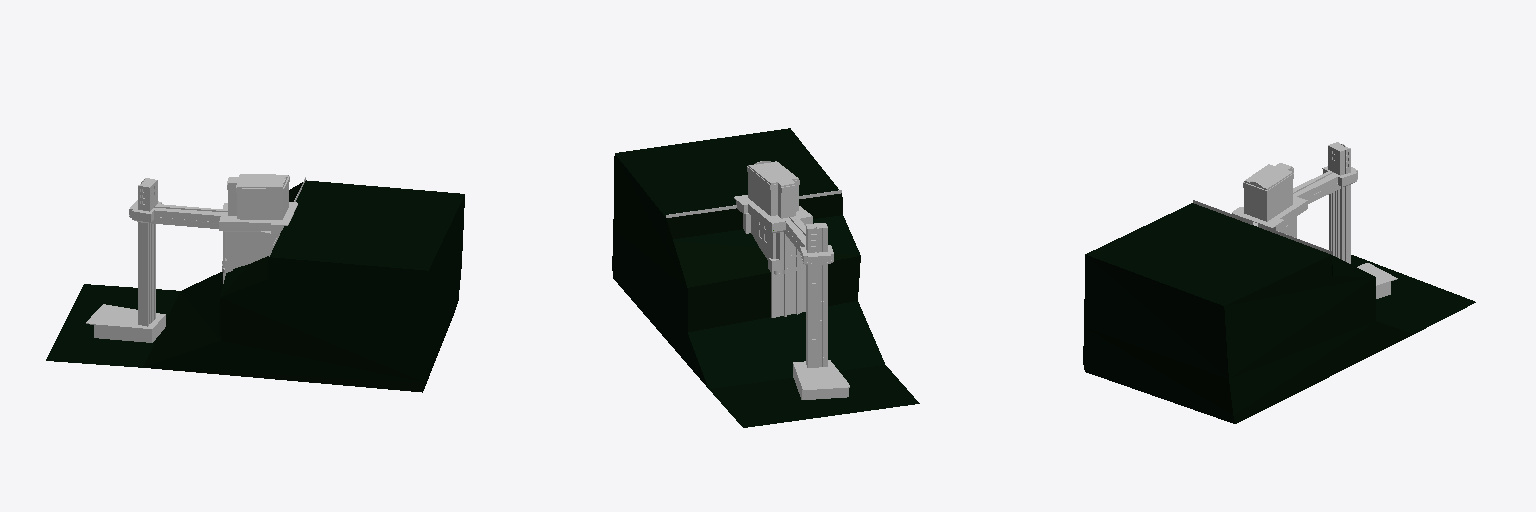
3 views of the same model, side by side, from view 1: azimuth 30°, elevation 25°; view 2: azimuth 150°, elevation 25°; view 3: azimuth 270°, elevation 25° (orthographic).
Parts seen in each view (by area): view 1: Morro_Cube.010, Torre_A_Cube.007, Torre_A_Predio_Cube, Base_Cube.005, Adorno_Colunas_Cube.012, Corredor_Cube.006, Torre_B_Elevador_Cube.002; view 2: Morro_Cube.010, Torre_A_Cube.007, Torre_A_Predio_Cube, Base_Cube.005, Torre_B_Elevador_Cube.002, Adorno_Colunas_Cube.012; view 3: Morro_Cube.010, Torre_A_Predio_Cube, Adorno_Colunas_Cube.012, Torre_A_Cube.007, Corredor_Cube.006, Torre_B_Elevador_Cube.002, Base_Cube.005.
Part boxes in pixels (bbox=[...]): Morro_Cube.010: bbox=[46, 180, 464, 392]; Torre_A_Cube.007: bbox=[219, 202, 297, 283]; Torre_A_Predio_Cube: bbox=[227, 174, 289, 219]; Base_Cube.005: bbox=[86, 304, 165, 342]; Adorno_Colunas_Cube.012: bbox=[138, 178, 155, 326]; Corredor_Cube.006: bbox=[151, 204, 221, 228]; Torre_B_Elevador_Cube.002: bbox=[129, 200, 161, 325]; Morro_Cube.010: bbox=[612, 128, 919, 427]; Torre_A_Cube.007: bbox=[734, 195, 812, 317]; Torre_A_Predio_Cube: bbox=[747, 161, 799, 218]; Base_Cube.005: bbox=[793, 360, 849, 399]; Torre_B_Elevador_Cube.002: bbox=[800, 245, 833, 367]; Adorno_Colunas_Cube.012: bbox=[806, 225, 827, 367]; Morro_Cube.010: bbox=[1083, 203, 1475, 423]; Torre_A_Predio_Cube: bbox=[1243, 163, 1293, 221]; Adorno_Colunas_Cube.012: bbox=[1329, 142, 1350, 263]; Torre_A_Cube.007: bbox=[1232, 196, 1307, 237]; Corredor_Cube.006: bbox=[1293, 171, 1340, 203]; Torre_B_Elevador_Cube.002: bbox=[1322, 166, 1357, 262]; Base_Cube.005: bbox=[1357, 263, 1397, 298].
Bounding box in the file's own units: 154 × 66.6 × 145.